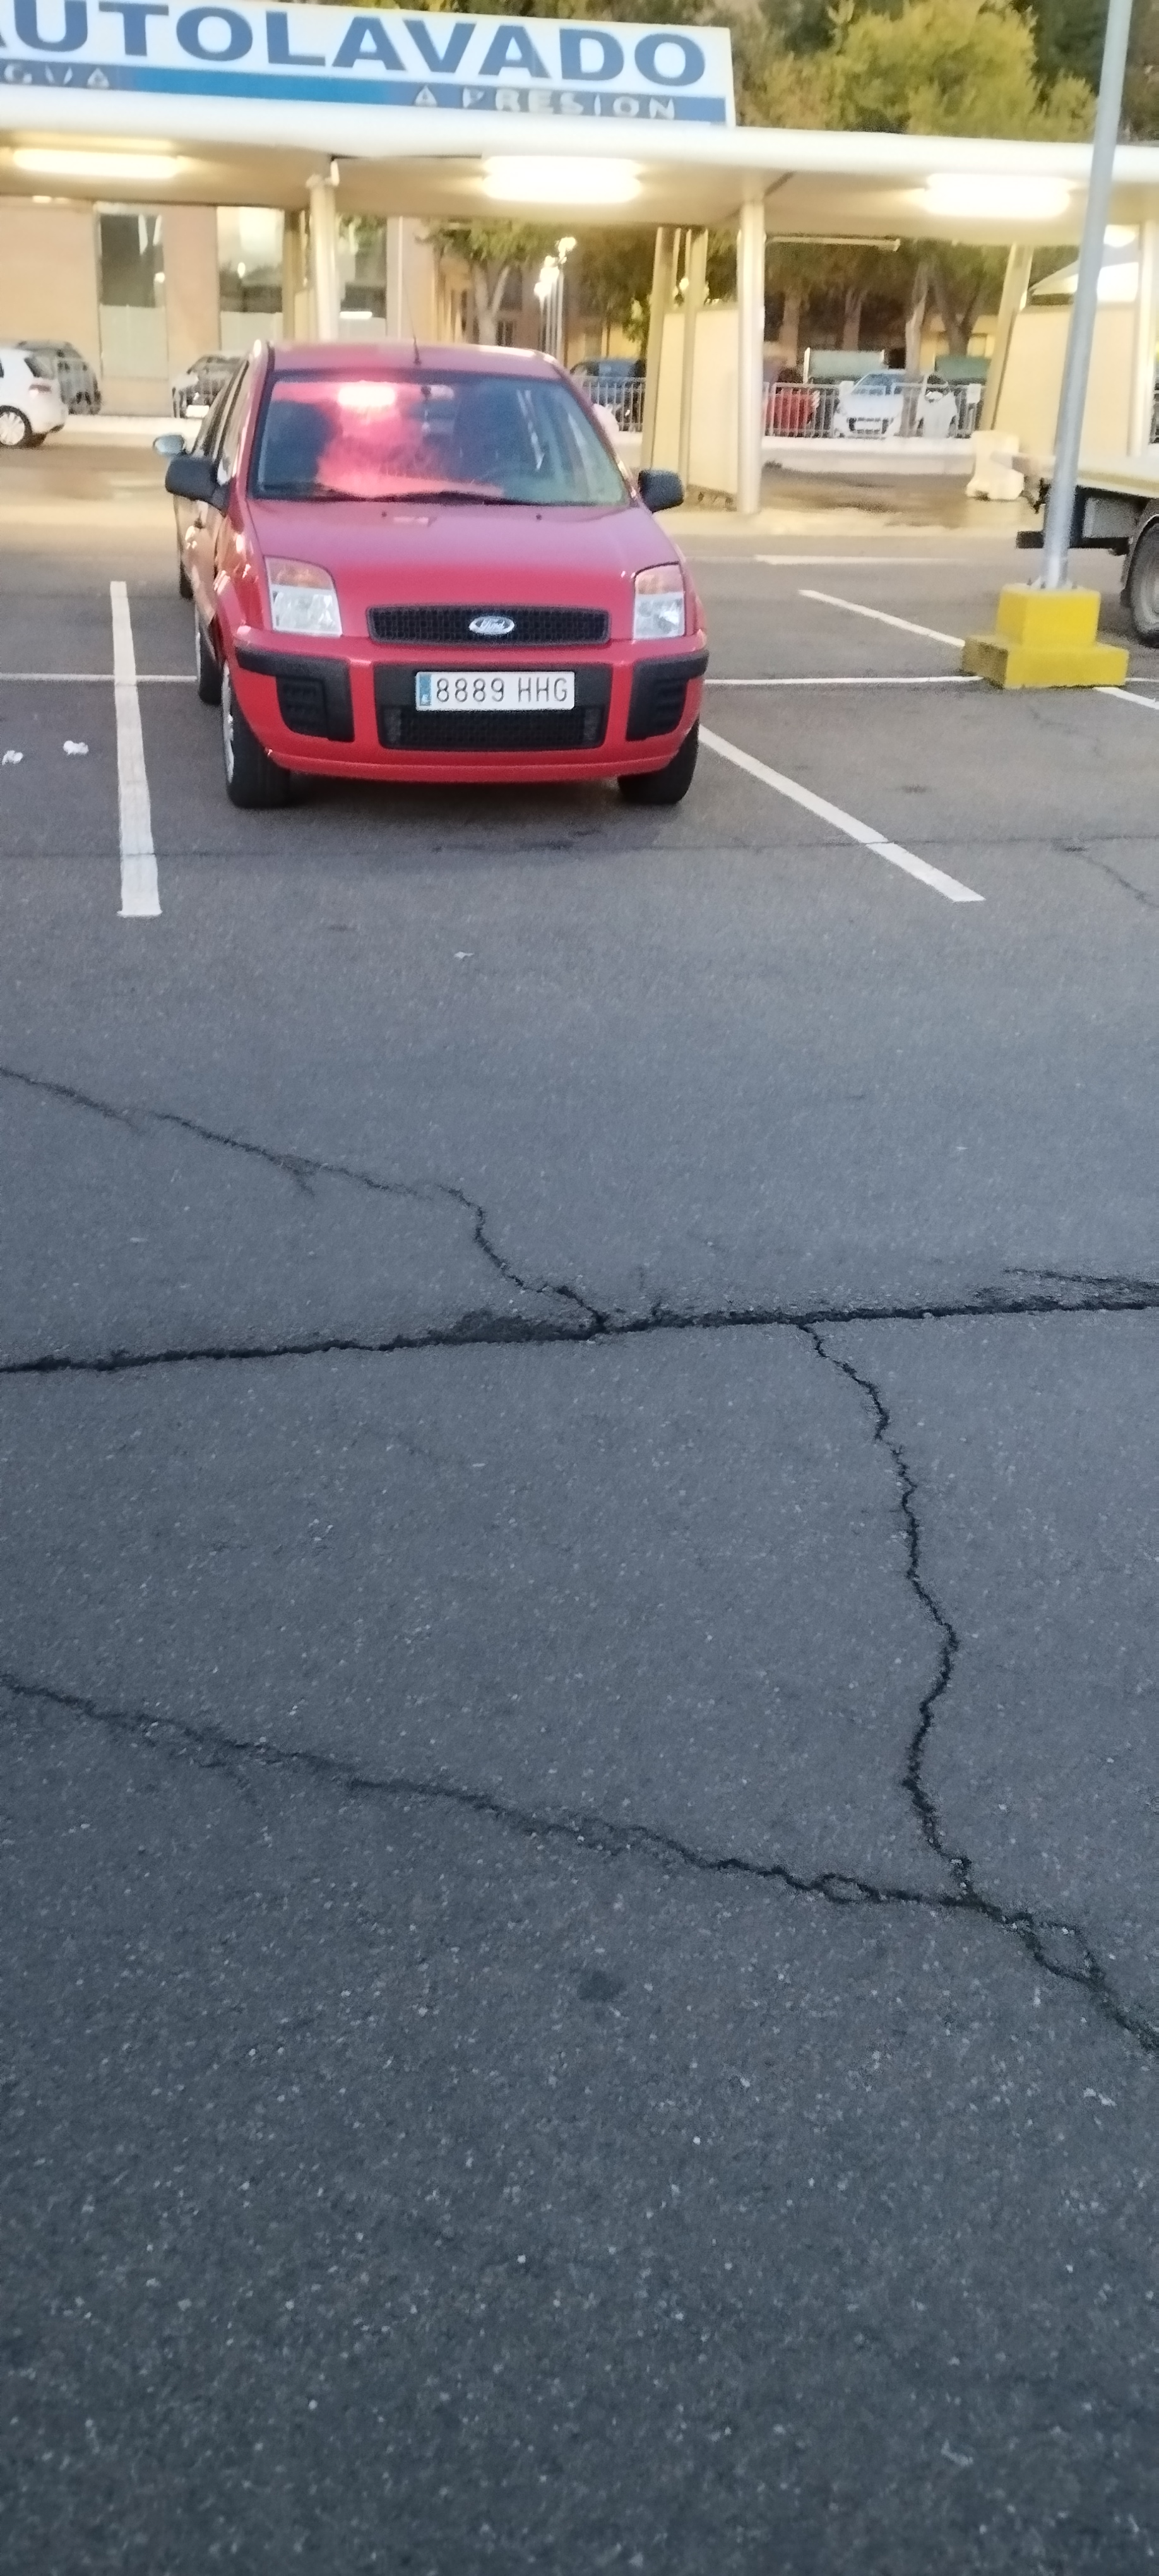Car: (172, 343, 691, 807)
Plate: (416, 671, 573, 710)
